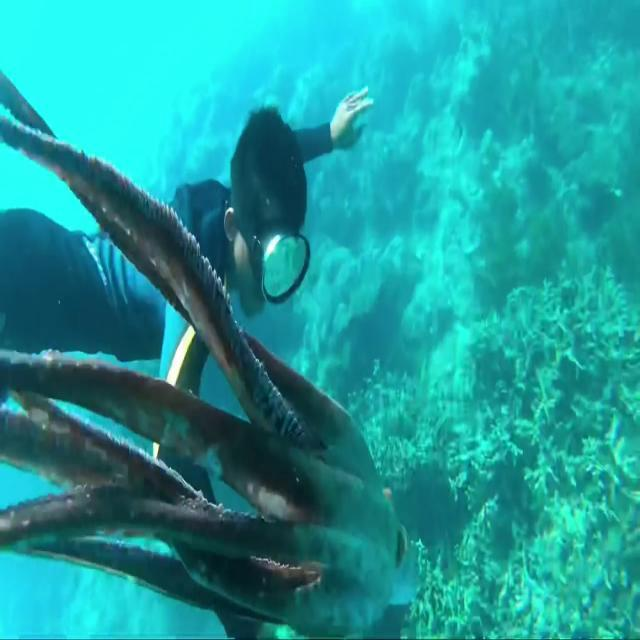octopus: (0, 74, 423, 640)
